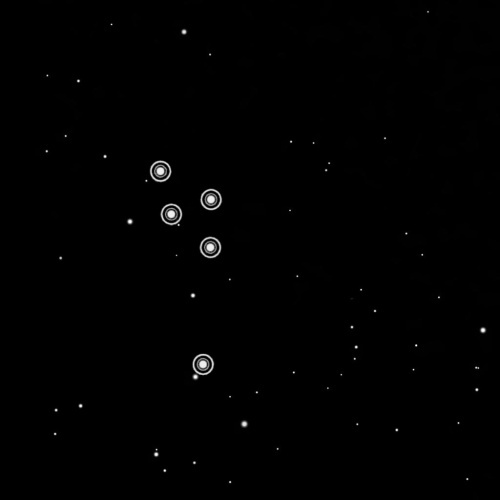delphinus: (146, 152, 227, 380)
